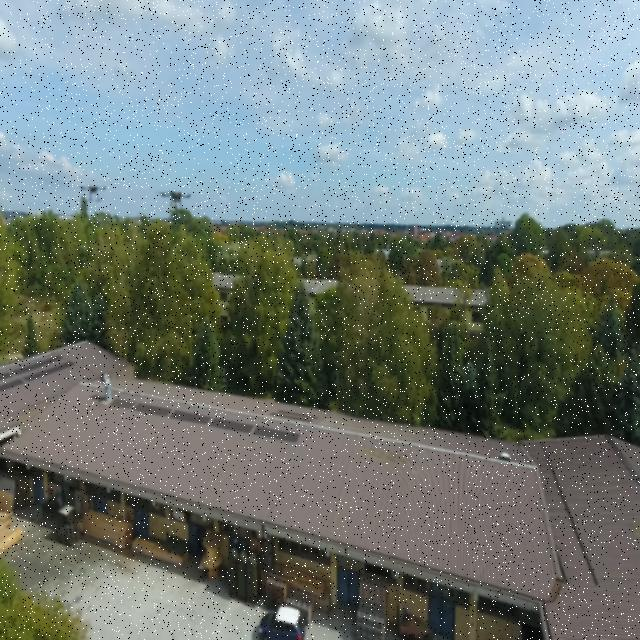UAV: (154, 187, 193, 216), (75, 178, 108, 205)
